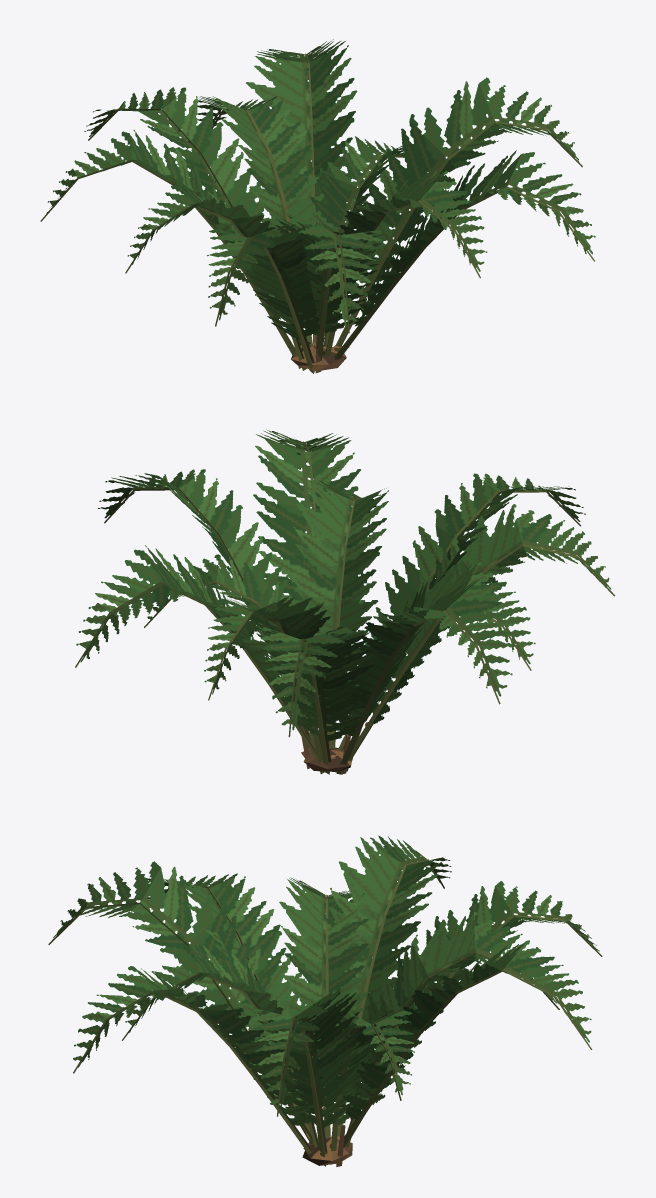
Rendered from fern_sword2_v1.fbx.
The picture shows the model from 3 angles, top to bottom: view 1: azimuth 30°, elevation 25°; view 2: azimuth 150°, elevation 25°; view 3: azimuth 270°, elevation 25°; orthographic projection. The views are drawn at different scales.
Parts seen in each view (by area): view 1: fern_sword2_v1; view 2: fern_sword2_v1; view 3: fern_sword2_v1.
Boxes of the visible parts, x1,y1,x2,y2 form: fern_sword2_v1: [40, 39, 595, 373]; fern_sword2_v1: [75, 429, 615, 774]; fern_sword2_v1: [48, 835, 602, 1166].
Bounding box in the file's own units: 150 × 68.72 × 148.
